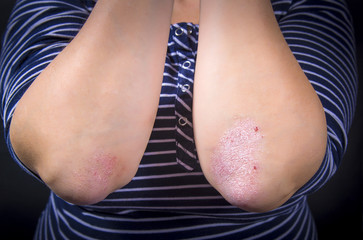Eczema: (203, 117, 291, 199)
